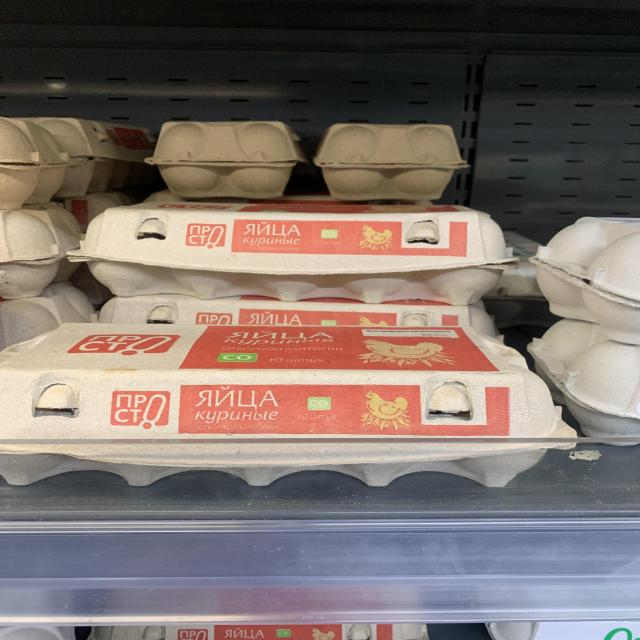organic waste: (0, 324, 576, 492), (65, 203, 522, 303), (531, 209, 640, 346), (536, 314, 640, 443), (315, 118, 463, 202), (149, 115, 298, 198), (0, 120, 74, 208), (0, 208, 74, 296)
